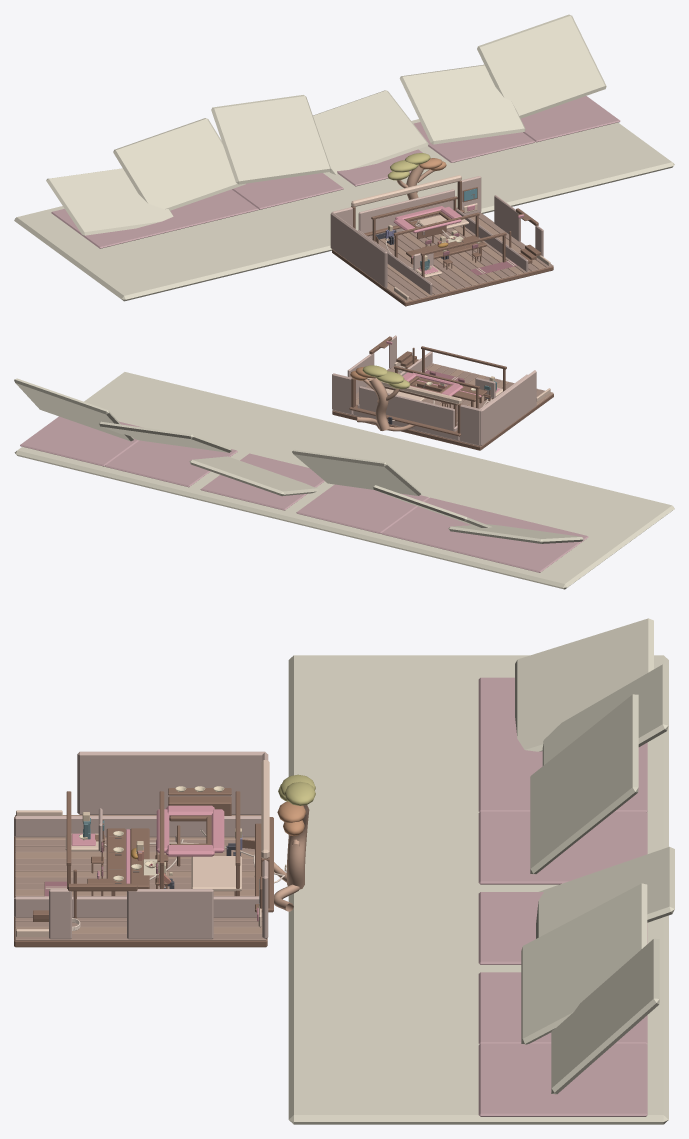
The model's file is second-mouth-supper.glb.
3 views of the same model, one above another, from view 1: azimuth 30°, elevation 25°; view 2: azimuth 150°, elevation 25°; view 3: azimuth 270°, elevation 25° (orthographic). The views are drawn at different scales.
Parts seen in each view (by area): view 1: OldCountry, CountryFold.005, CountryFold.002, CountryFold.001, CountryFold.004, CountryFold.003, CountryFold, CountryExposed.005, CountryExposed.002, SideWall, CountryExposed.001, CountryExposed.004 (+9 smaller); view 2: OldCountry, CountryExposed.002, CountryExposed.001, CountryExposed, CountryExposed.004, CountryExposed.005, CountryFold.002, CountryExposed.003, CountryFold.005, CountryFold.003, SideWall, LowerRearWall (+10 smaller); view 3: OldCountry, CountryFold.002, CountryFold.004, CountryExposed.005, CountryFold, SideWall, CountryExposed.002, CountryFold.005, CountryFold.003, CountryExposed.001, SideDoorRight, CountryFold.001 (+21 smaller).
Boxes of the visible parts, x1,y1,x2,y2 form: OldCountry: (14,119,674,301); CountryFold.005: (477,14,606,118); CountryFold.002: (211,95,331,184); CountryFold.001: (113,118,245,210); CountryFold.004: (399,64,525,144); CountryFold.003: (313,90,428,174); CountryFold: (46,168,173,235); CountryExposed.005: (521,96,620,142); CountryExposed.002: (232,173,343,209); SideWall: (330,212,387,287); CountryExposed.001: (164,189,258,229); CountryExposed.004: (413,122,535,162); OldCountry: (14,372,674,589); CountryExposed.002: (296,484,428,533); CountryExposed.001: (381,497,511,554); CountryExposed: (456,516,588,572); CountryExposed.004: (105,440,237,487); CountryExposed.005: (20,416,141,466); CountryFold.002: (292,449,420,495); CountryExposed.003: (200,453,324,510); CountryFold.005: (14,378,133,441); CountryFold.003: (189,456,318,496); SideWall: (480,370,536,445); LowerRearWall: (359,386,454,431); OldCountry: (288,655,668,1124); CountryFold.002: (530,694,638,874); CountryFold.004: (521,883,647,1044); CountryExposed.005: (478,1043,647,1116); CountryFold: (515,618,653,751); SideWall: (77,751,265,814); CountryExposed.002: (478,811,647,884); CountryFold.005: (551,938,659,1094); CountryFold.003: (536,846,674,938); CountryExposed.001: (478,740,647,812); SideDoorRight: (127,889,213,939); CountryFold.001: (542,664,668,765).
Bounding box in the file's own units: 52.7 × 6.71 × 31.29.
